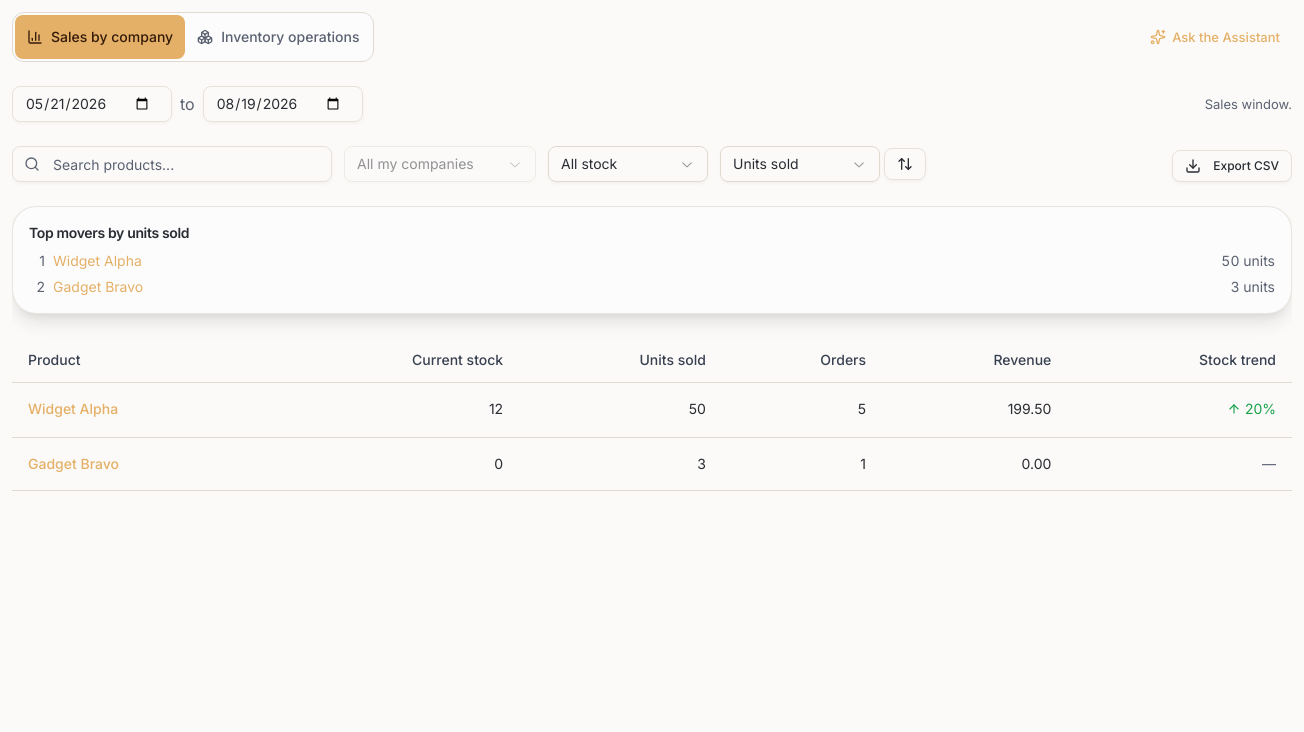
Test case: the date window stays visible in the OPERATIONS view, labeled as the supply-order window
Click the button "Inventory operations": (278, 37) [185, 15, 372, 59]
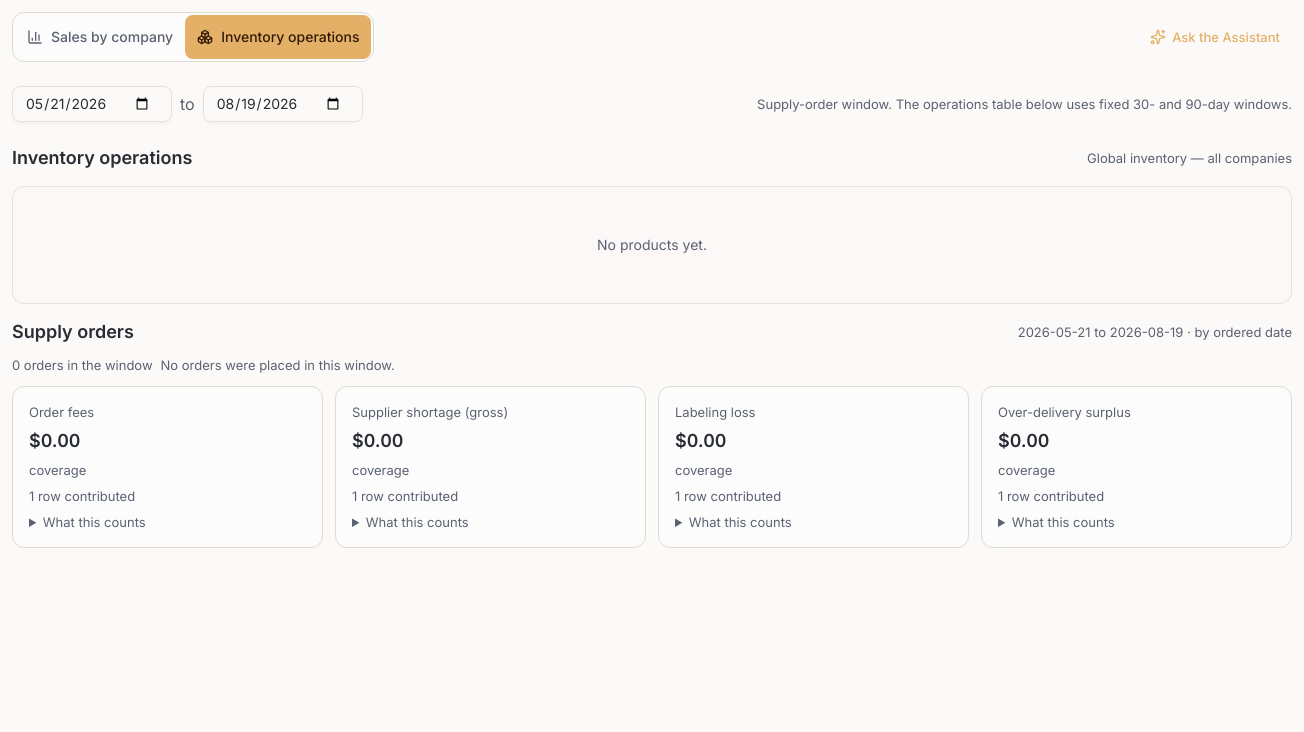
Expected: the date field named "From date" is shown, [12, 86, 172, 122]
Expected: the text "Supply-order window. The operations table below uses fixed 30- and 90-day windows." is shown, [757, 96, 1292, 112]
Expected: the element with test id "supply-orders-tile-fees" is shown, [12, 386, 323, 548]
